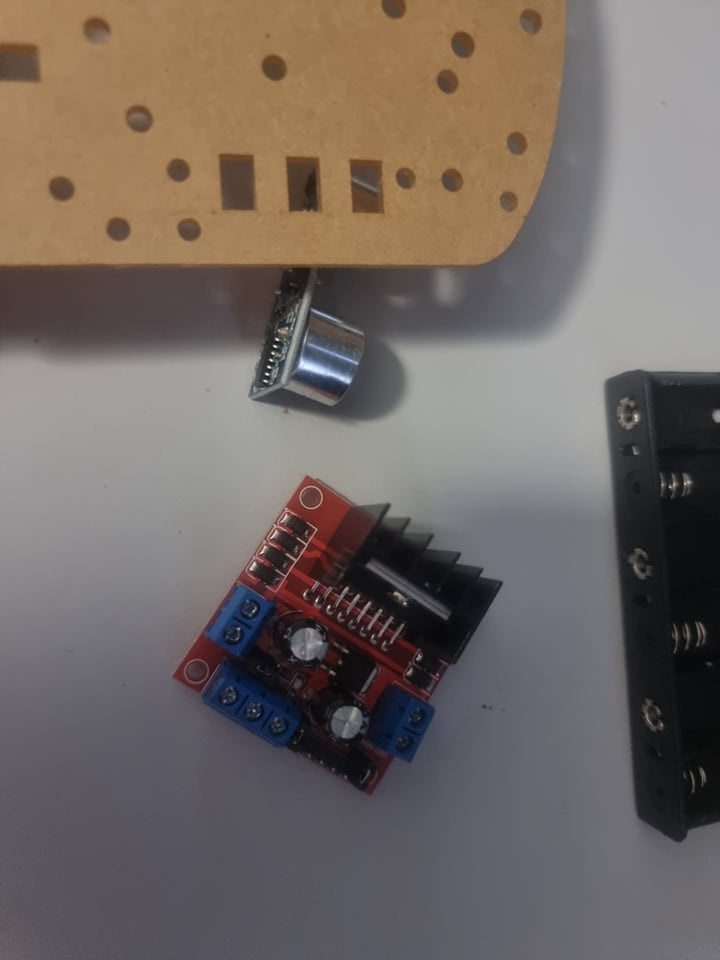BATTERY BOX: (598, 363, 720, 846)
MOTOR: (175, 475, 509, 803)
SENSOR: (238, 274, 389, 416)
